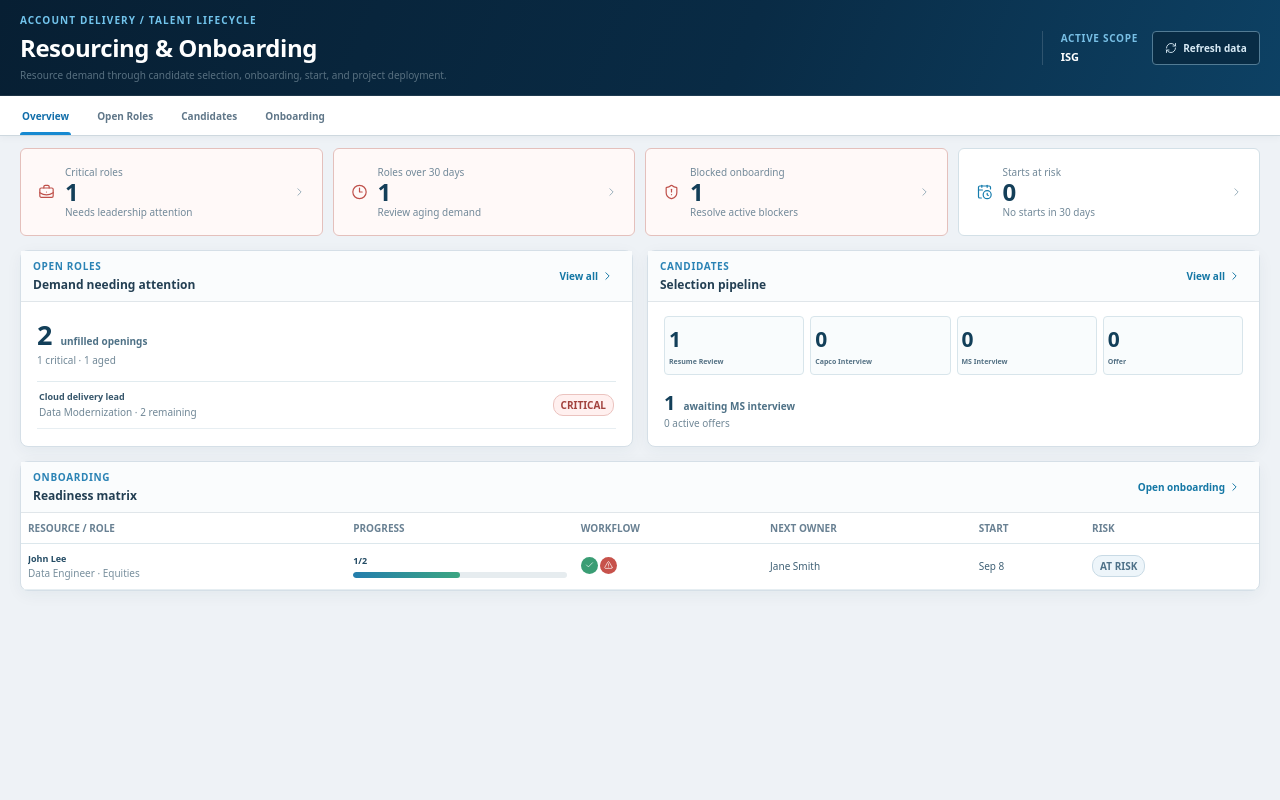
it: ResourcingView › completes the sourcing handoff inline and preserves the role context
The image size is (1280, 800).
Click the button "Open Roles" at [125, 116], box [95,96,155,135]
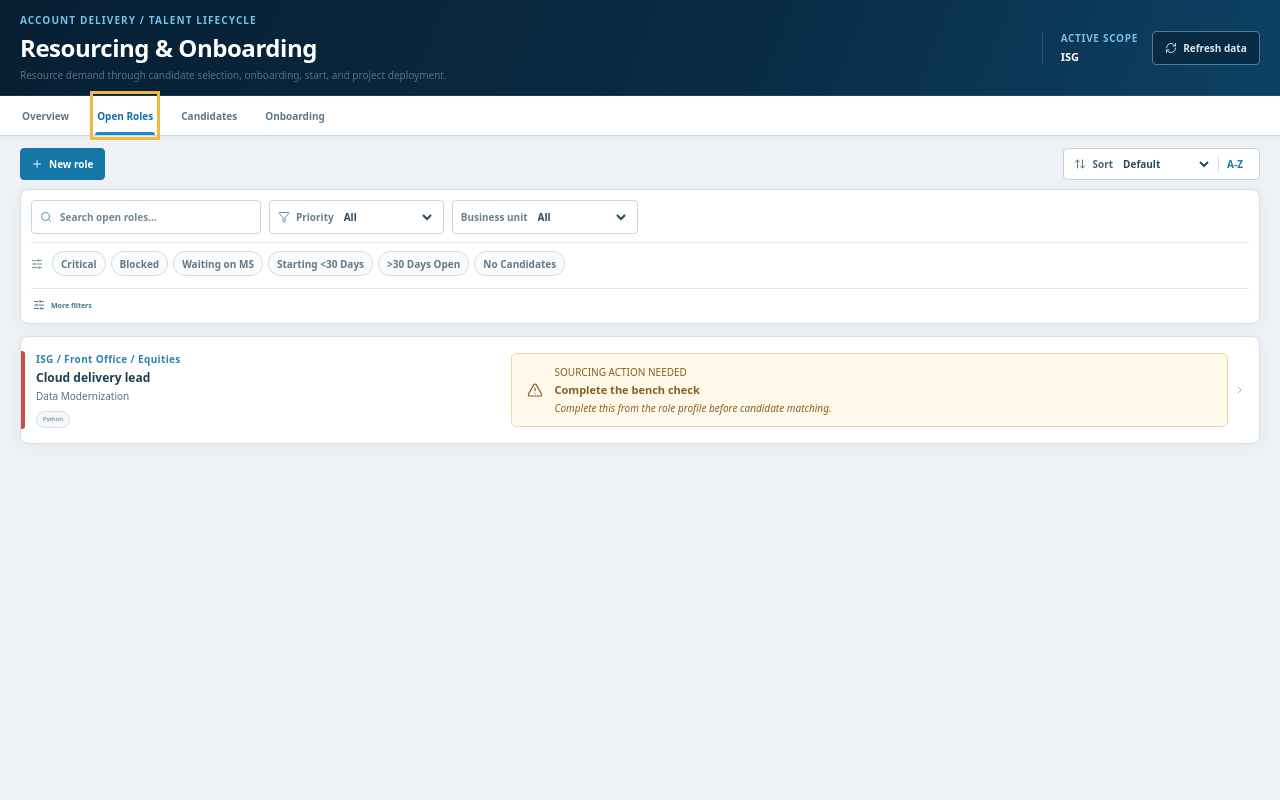
Click the button "Cloud delivery lead" at [640, 390], box [20,336,1260,444]
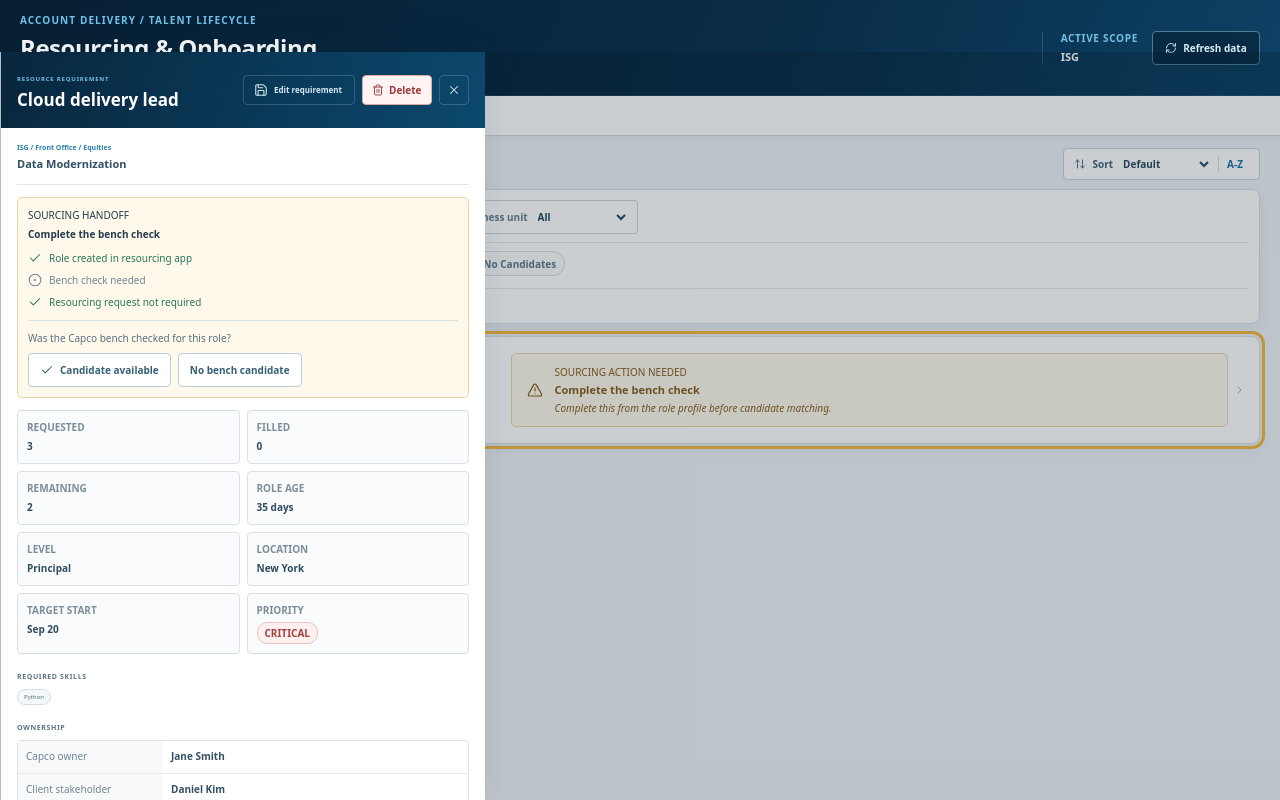
Click the button "No bench candidate" at [240, 370], box [178,353,302,387]
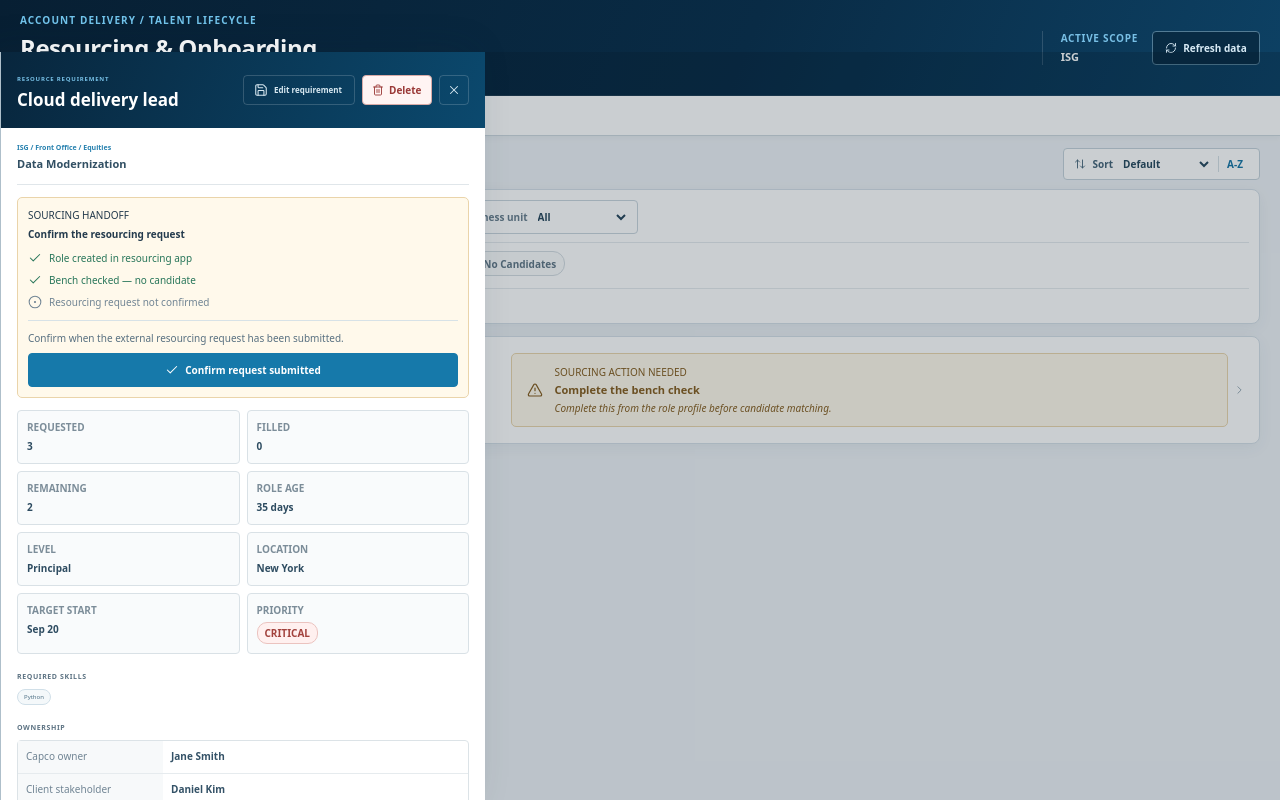
Click the button "Confirm request submitted" at [243, 370], box [28,353,458,387]
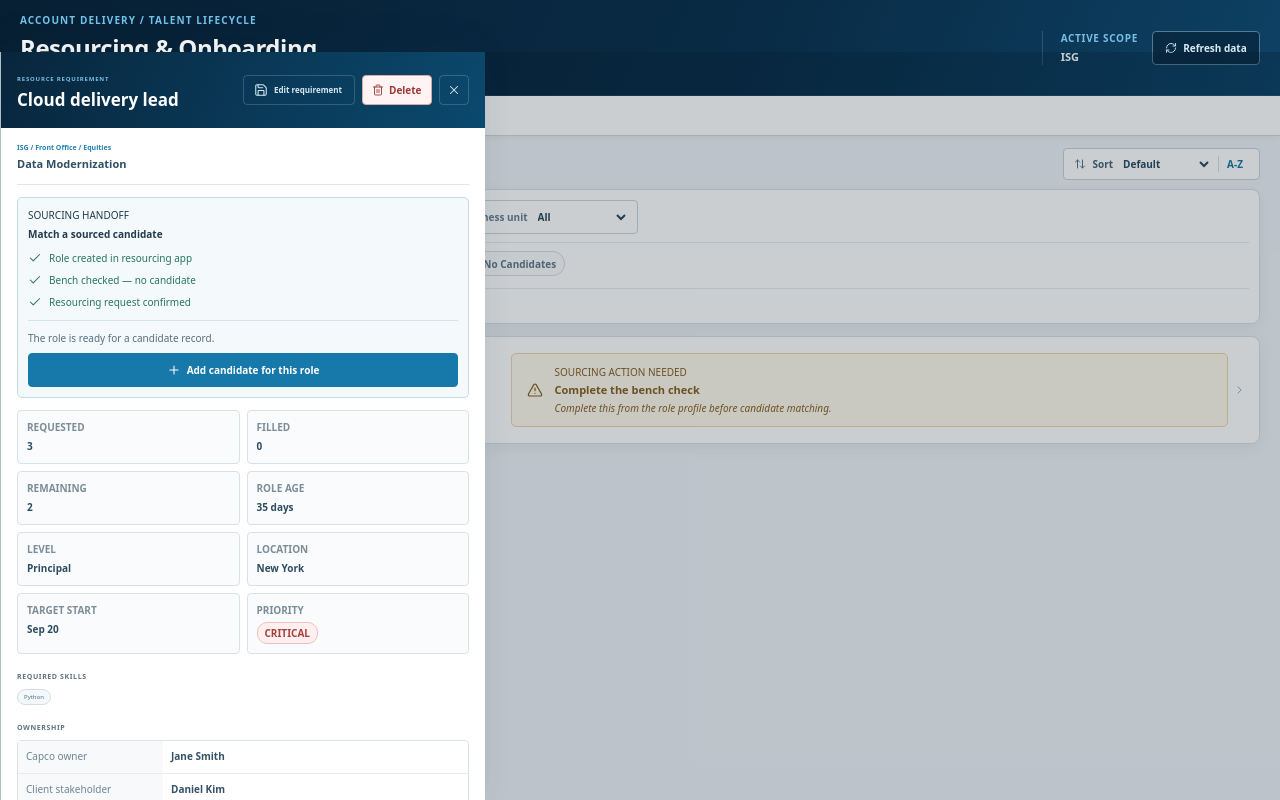
Click the button "Add candidate for this role" at [243, 370], box [28,353,458,387]
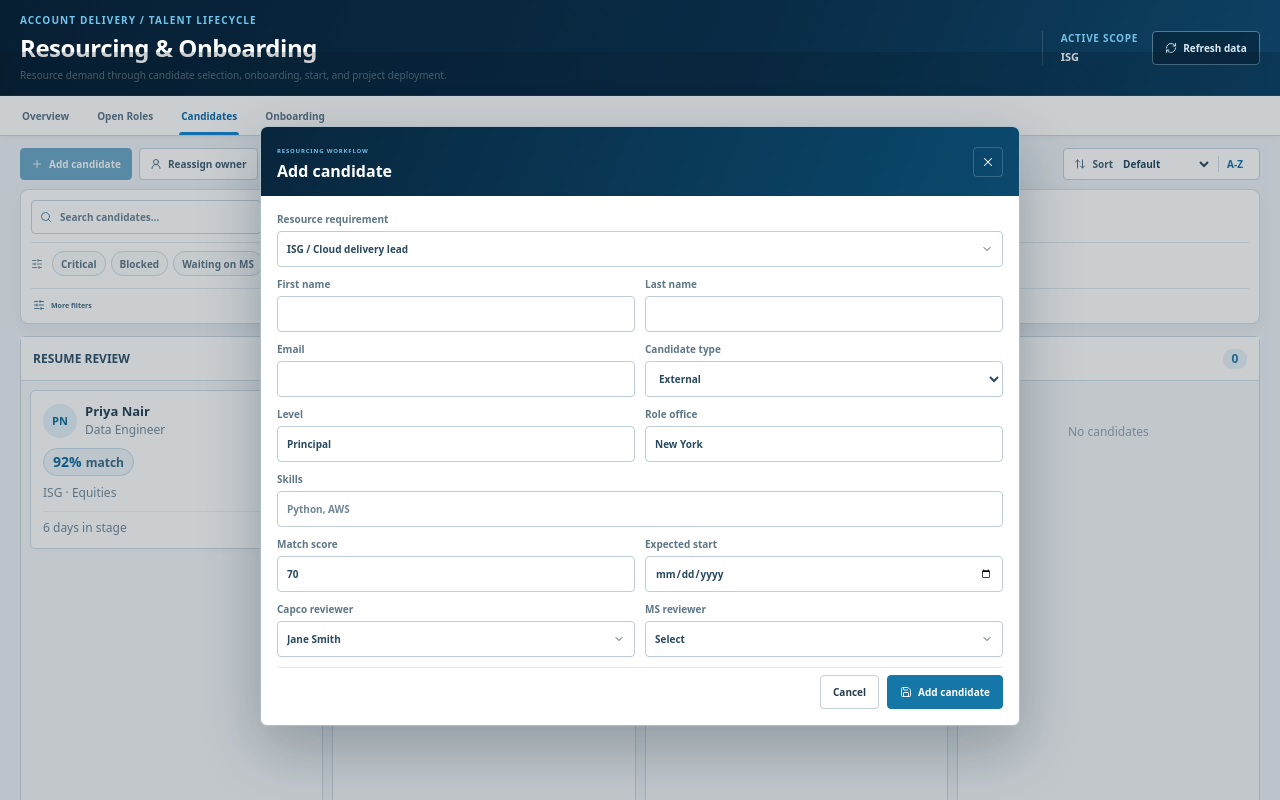
Now the dialog "Add candidate" is shown, box [260,126,1020,726]
Now the button with aria-label "Resource requirement" shows "Cloud delivery lead", box [277,231,1003,267]
